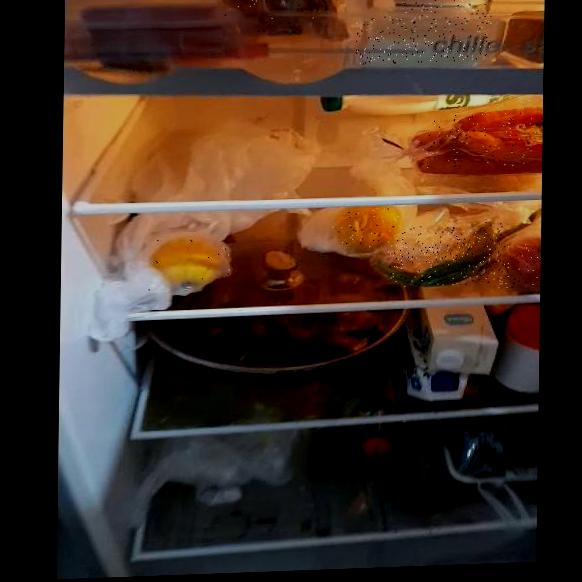bread: (213, 0, 340, 35)
carrots: (421, 112, 542, 171)
cheese: (356, 13, 491, 65)
green chilies: (387, 221, 503, 287)
lemon: (149, 235, 232, 291), (332, 205, 407, 251)
milk: (406, 307, 493, 397)
tomato: (499, 243, 540, 289)
yoghurt: (395, 0, 493, 14)
